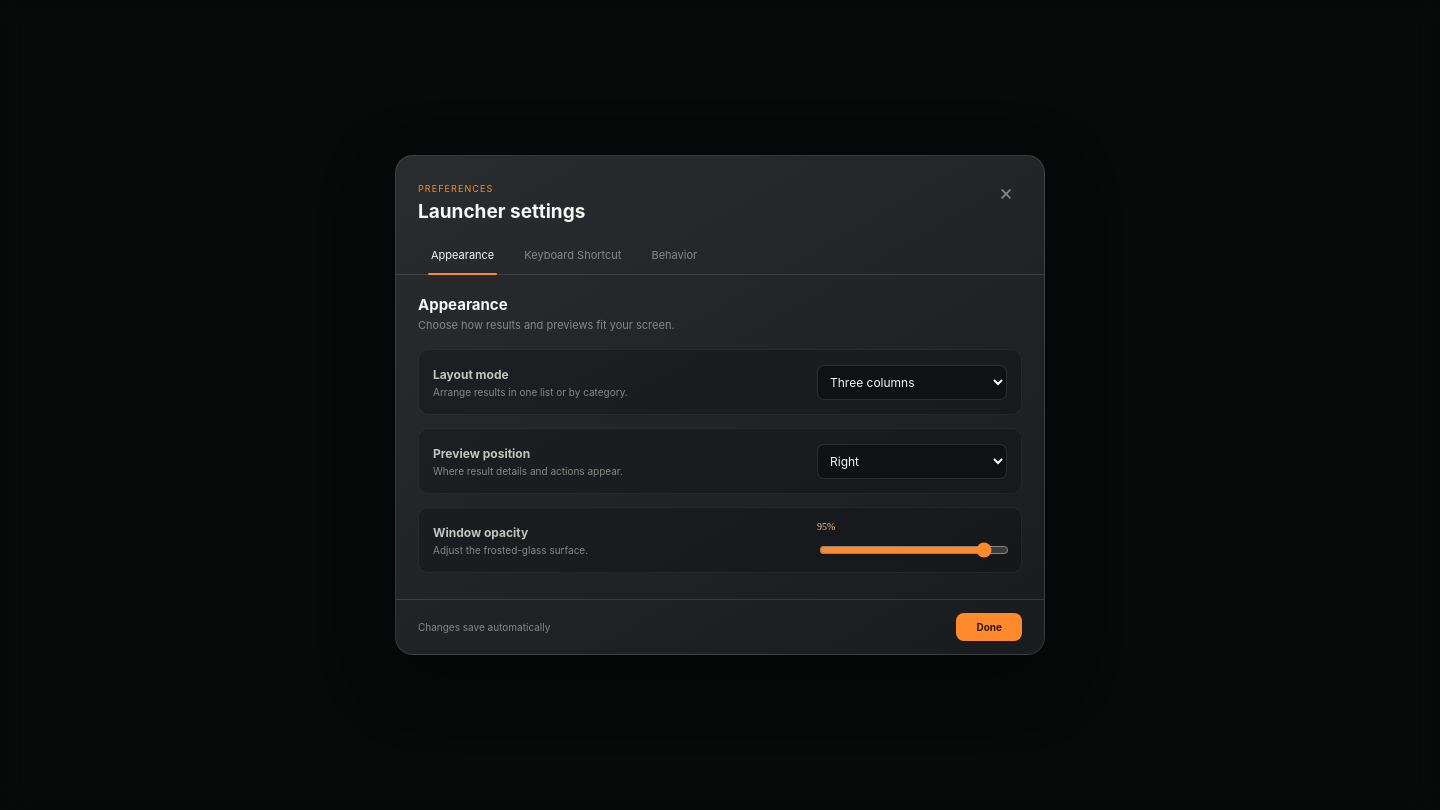
SettingsPanel › organizes preferences into clear tabs
Expected: the heading "Appearance" is shown, [418,295,508,314]
Click the tab "Keyboard shortcut" at (573, 256), box [511,238,634,274]
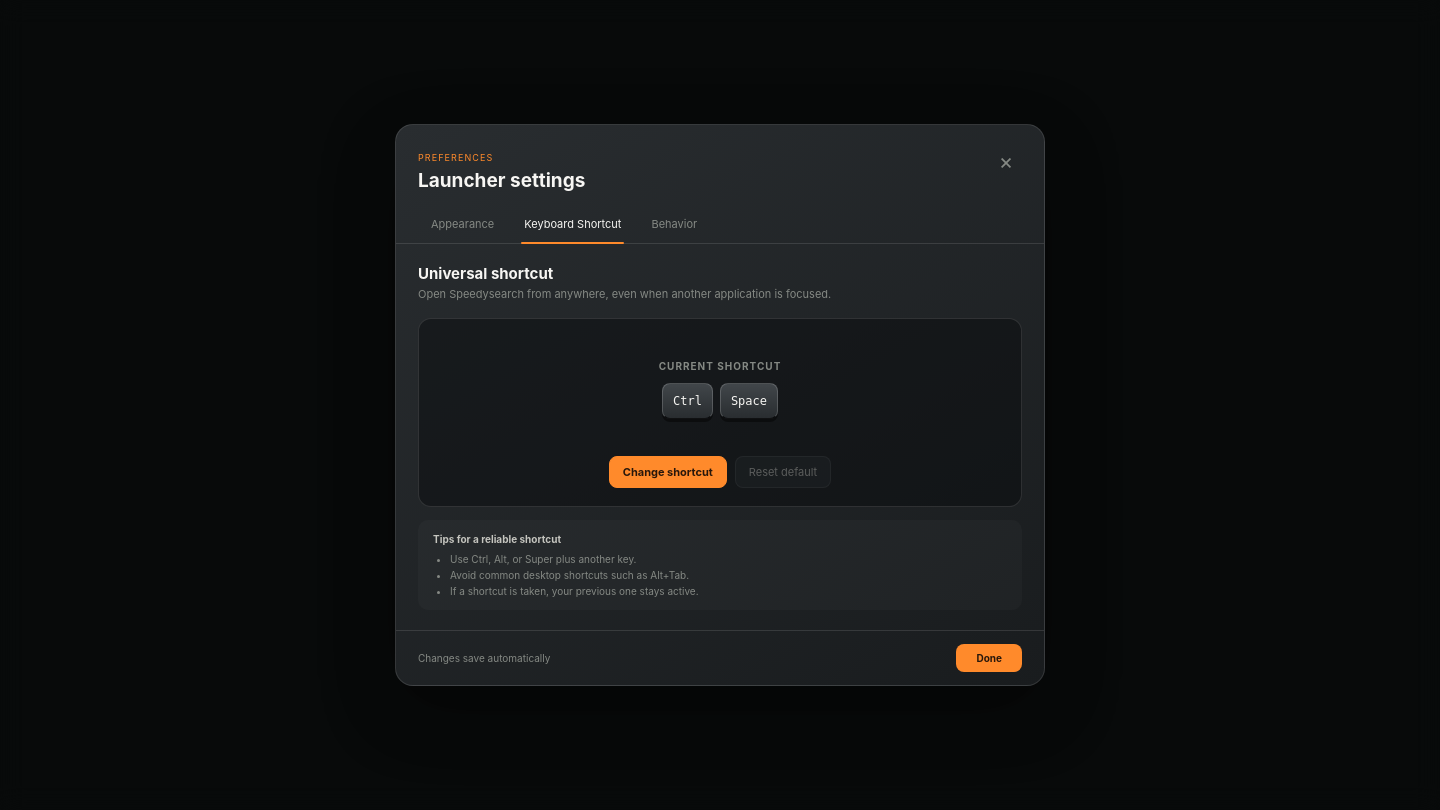
Expected: the heading "Universal shortcut" is shown, [418,264,553,283]
Expected: the button "Change shortcut" is shown, [609,456,727,488]
Click the tab "behavior" at (674, 225), box [638,207,710,243]
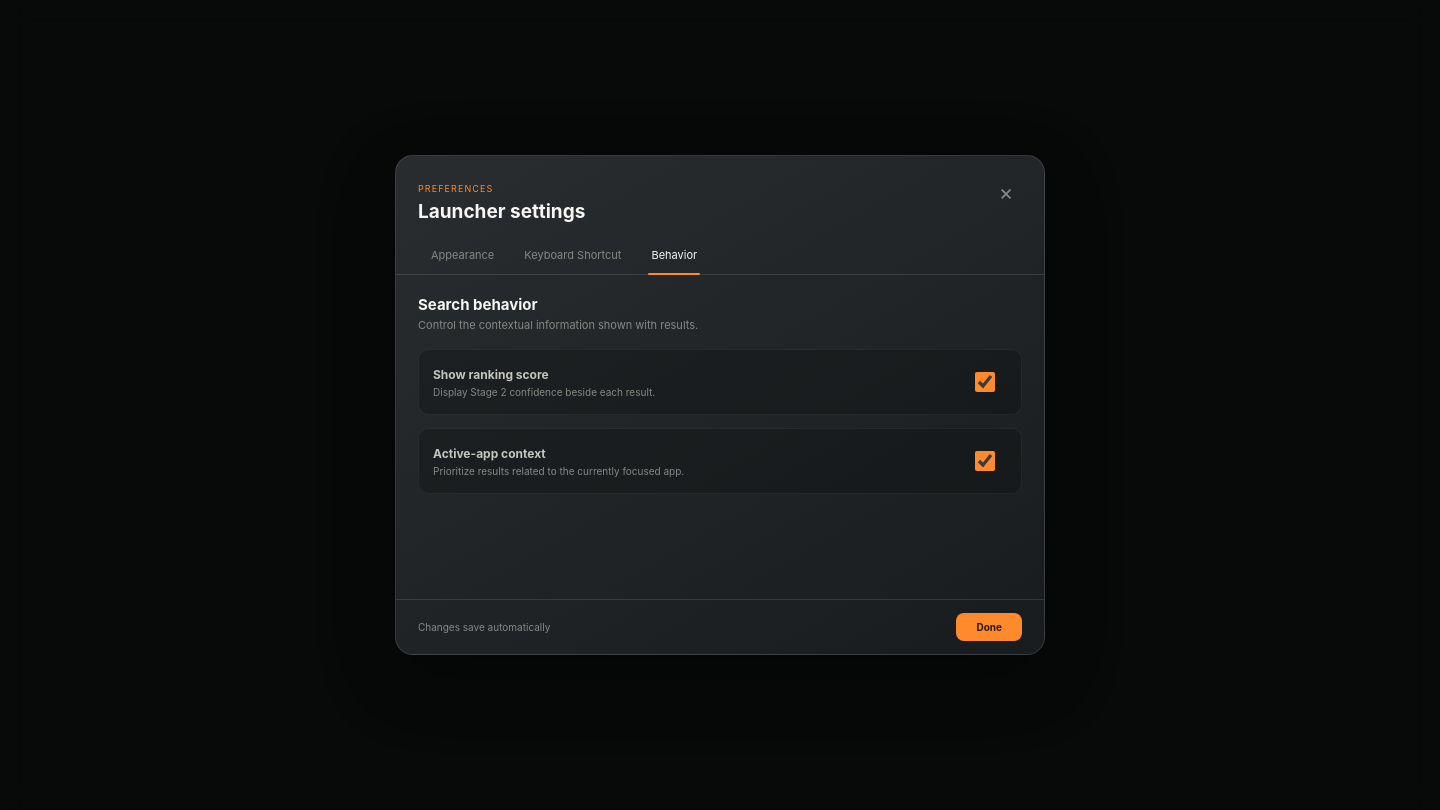
Expected: the heading "Search behavior" is shown, [418,295,538,314]
